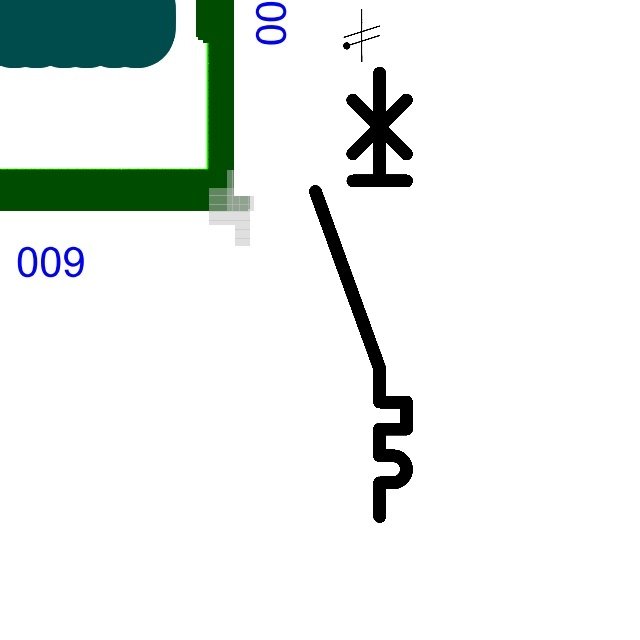interruptor_termomagnetico: (304, 61, 418, 528)
